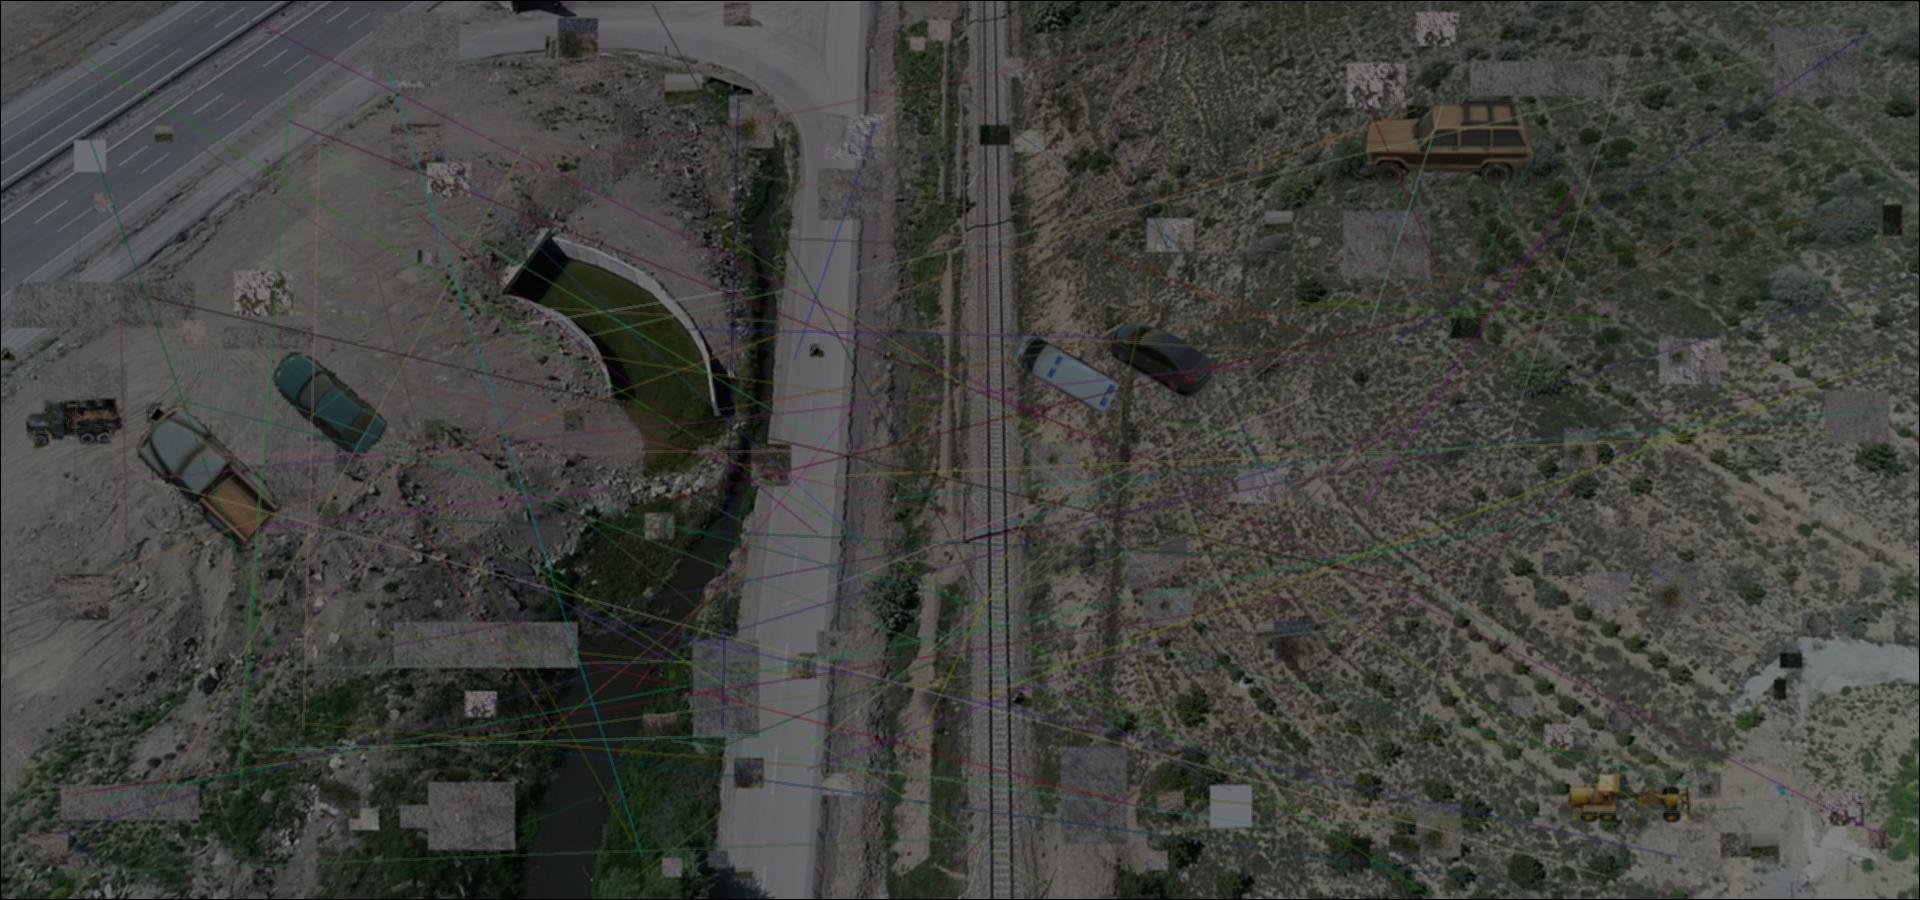arac: (133, 403, 283, 545), (1359, 96, 1537, 189), (269, 348, 387, 458), (1007, 331, 1119, 416), (1111, 321, 1213, 398), (1565, 773, 1697, 827), (26, 396, 122, 449)
